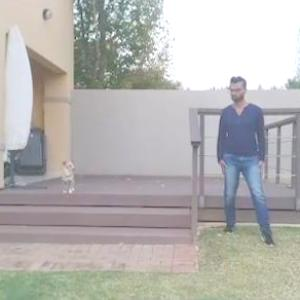follow: (217, 69, 268, 255)
